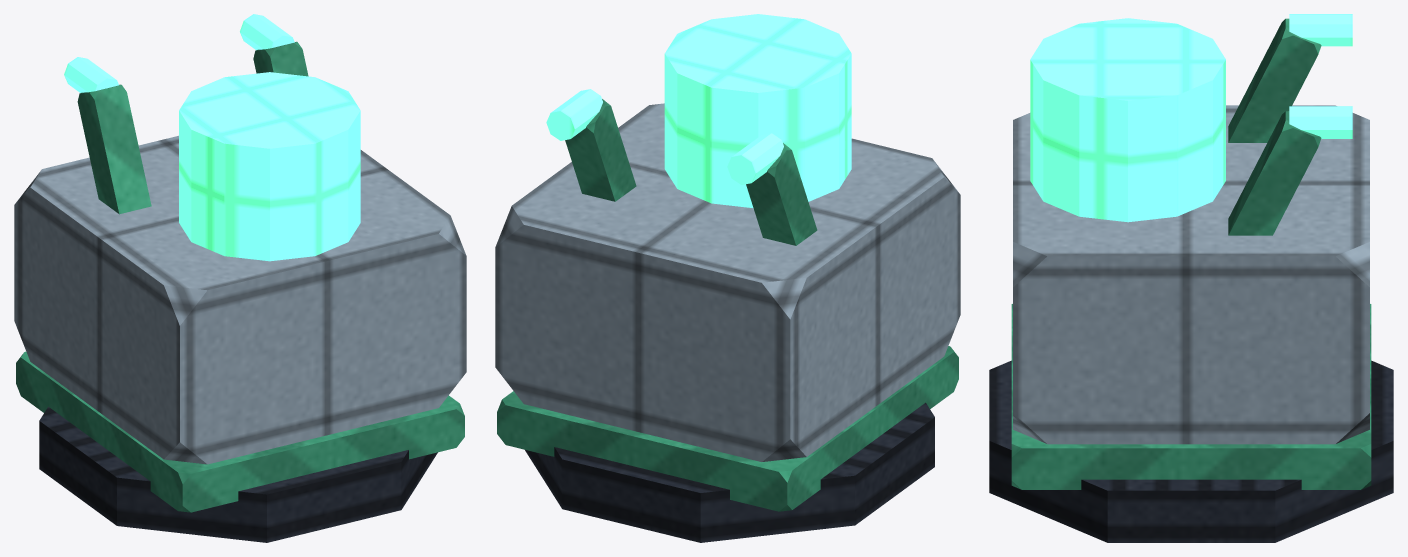
File: eq_repair_module.glb
The picture shows the model from 3 angles, left to right: view 1: azimuth 30°, elevation 25°; view 2: azimuth 150°, elevation 25°; view 3: azimuth 270°, elevation 25°; orthographic projection. The views are drawn at different scales.
Visible parts, largest first — view 1: eq_repair_module; view 2: eq_repair_module; view 3: eq_repair_module.
Boxes of the visible parts, x1,y1,x2,y2 form: eq_repair_module: (14, 14, 466, 542); eq_repair_module: (495, 14, 960, 542); eq_repair_module: (989, 14, 1393, 542).
Bounding box in the file's own units: 1.4 × 1.53 × 1.4.
Materials: 1 (1 with a texture image).
